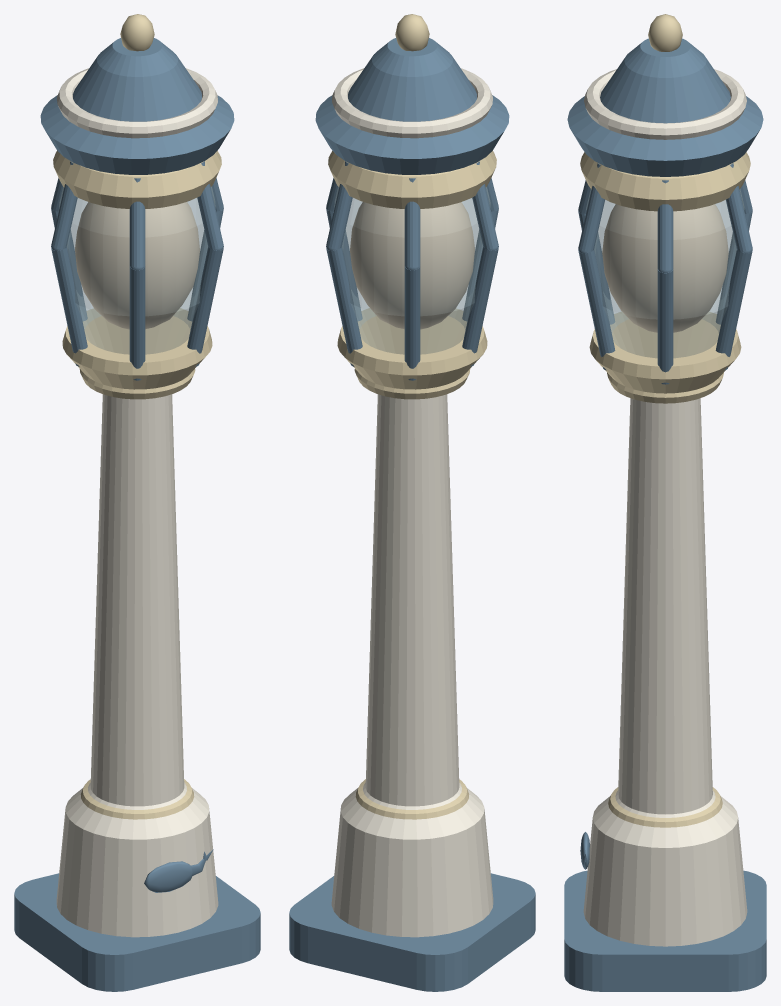
File: library_street_lamp.glb
3 views of the same model, side by side, from view 1: azimuth 30°, elevation 25°; view 2: azimuth 150°, elevation 25°; view 3: azimuth 270°, elevation 25° (orthographic).
Parts seen in each view (by area): view 1: decor_e0d7bf_matte, decor_29445e_matte, decor_bca46d_metal, decor_88b9ca_glass, decor_c6a176_matte; view 2: decor_e0d7bf_matte, decor_29445e_matte, decor_bca46d_metal, decor_88b9ca_glass, decor_c6a176_matte; view 3: decor_e0d7bf_matte, decor_29445e_matte, decor_bca46d_metal, decor_88b9ca_glass, decor_c6a176_matte.
Part boxes in pixels (x1,y1,x2,y2): decor_e0d7bf_matte: [56, 68, 218, 937]; decor_29445e_matte: [14, 38, 260, 991]; decor_bca46d_metal: [53, 14, 221, 819]; decor_88b9ca_glass: [59, 186, 215, 354]; decor_c6a176_matte: [75, 202, 199, 329]; decor_e0d7bf_matte: [331, 68, 493, 937]; decor_29445e_matte: [289, 38, 535, 991]; decor_bca46d_metal: [328, 14, 496, 819]; decor_88b9ca_glass: [334, 186, 490, 354]; decor_c6a176_matte: [350, 202, 474, 329]; decor_e0d7bf_matte: [583, 69, 747, 946]; decor_29445e_matte: [564, 38, 766, 991]; decor_bca46d_metal: [580, 14, 750, 827]; decor_88b9ca_glass: [586, 189, 744, 357]; decor_c6a176_matte: [602, 204, 728, 332].
Size of the model in its own units: 0.64 by 3.26 by 0.64.
